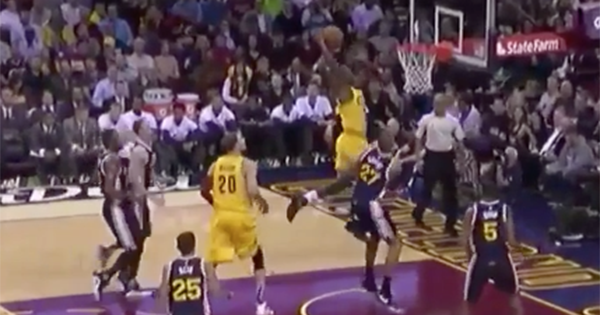ball: (321, 24, 344, 52)
basket: (393, 39, 442, 95)
player: (289, 43, 372, 219), (203, 134, 268, 314), (354, 128, 414, 306), (461, 178, 521, 315), (93, 127, 137, 307), (410, 93, 462, 232), (125, 119, 159, 286), (162, 232, 211, 315)
